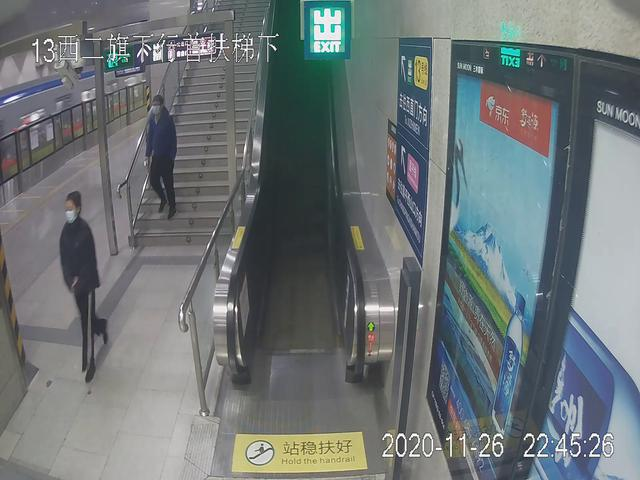person: (57, 192, 112, 380), (146, 95, 182, 219)
